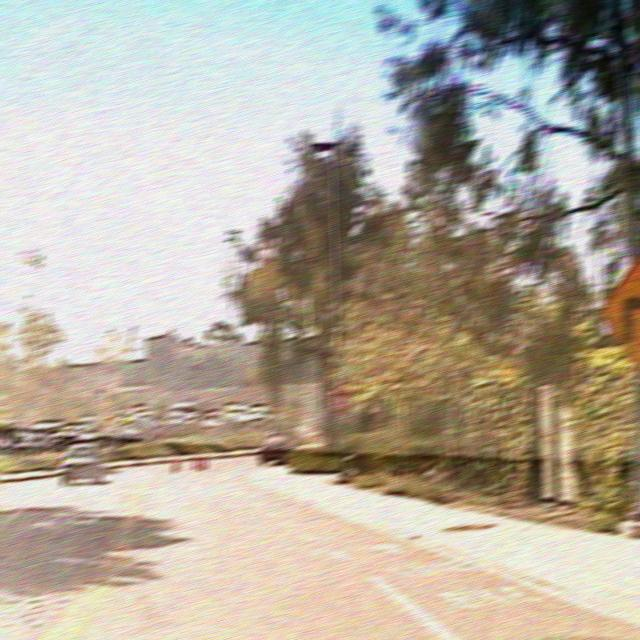stop: (328, 385, 354, 416)
